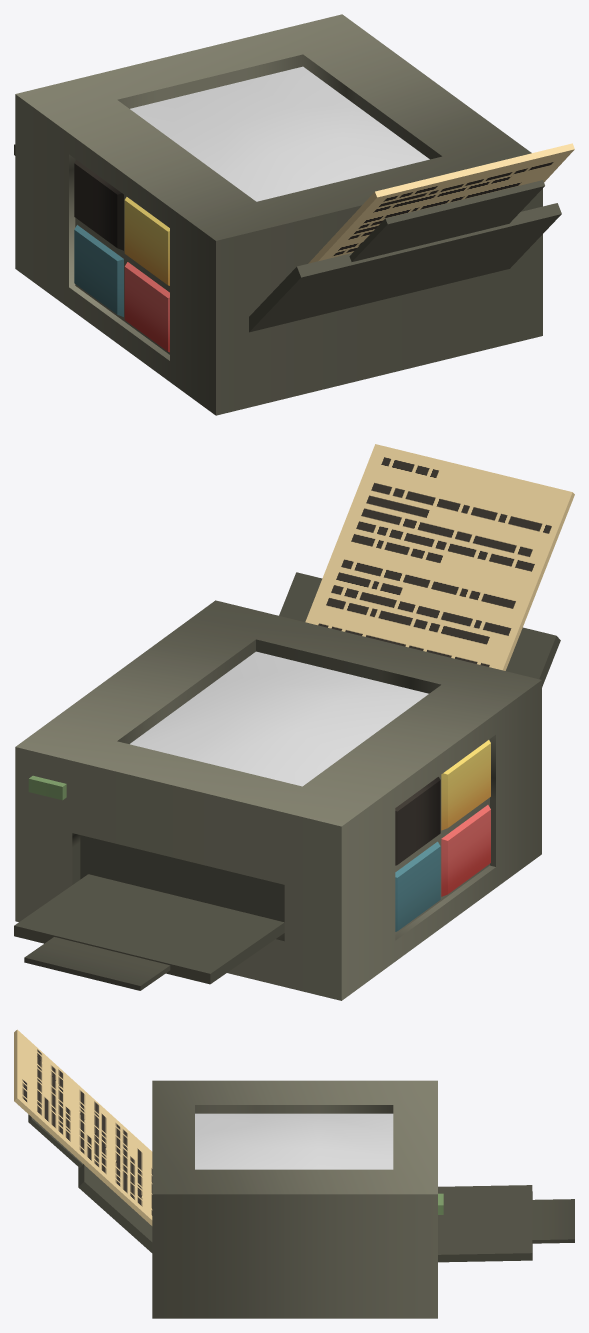
The model's file is SM_Printer.fbx.
3 renders of one model, top to bottom at view 1: azimuth 30°, elevation 25°; view 2: azimuth 150°, elevation 25°; view 3: azimuth 270°, elevation 25°, orthographic. The views are drawn at different scales.
Parts seen in each view (by area): view 1: impresora.017, impresora.016, folios.004, impresora.009, impresora.010, impresora.013, impresora.011, impresora.012; view 2: impresora.017, folios.004, impresora.015, impresora.014, impresora.016, impresora.011, impresora.012, impresora.010, impresora.013; view 3: impresora.017, folios.004, impresora.015, impresora.016, impresora.014, impresora.009.
Boxes of the visible parts, left/top/right/bottom form: impresora.017: left=15, top=14, right=542, bottom=415; impresora.016: left=249, top=203, right=561, bottom=332; folios.004: left=308, top=143, right=574, bottom=263; impresora.009: left=349, top=180, right=544, bottom=261; impresora.010: left=74, top=225, right=123, bottom=316; impresora.013: left=74, top=160, right=123, bottom=250; impresora.011: left=124, top=262, right=169, bottom=352; impresora.012: left=124, top=197, right=169, bottom=285; impresora.017: left=15, top=600, right=541, bottom=1000; folios.004: left=305, top=444, right=574, bottom=670; impresora.015: left=14, top=874, right=284, bottom=984; impresora.014: left=24, top=937, right=170, bottom=990; impresora.016: left=279, top=572, right=560, bottom=687; impresora.011: left=441, top=805, right=490, bottom=896; impresora.012: left=441, top=740, right=490, bottom=830; impresora.010: left=395, top=841, right=440, bottom=931; impresora.013: left=395, top=777, right=440, bottom=865; impresora.017: left=152, top=1080, right=437, bottom=1318; folios.004: left=14, top=1029, right=152, bottom=1225; impresora.015: left=438, top=1185, right=532, bottom=1262; impresora.016: left=78, top=1164, right=152, bottom=1252; impresora.014: left=532, top=1199, right=574, bottom=1243; impresora.009: left=28, top=1114, right=82, bottom=1167.
Size of the model in its own units: 49.61 by 41.04 by 104.
